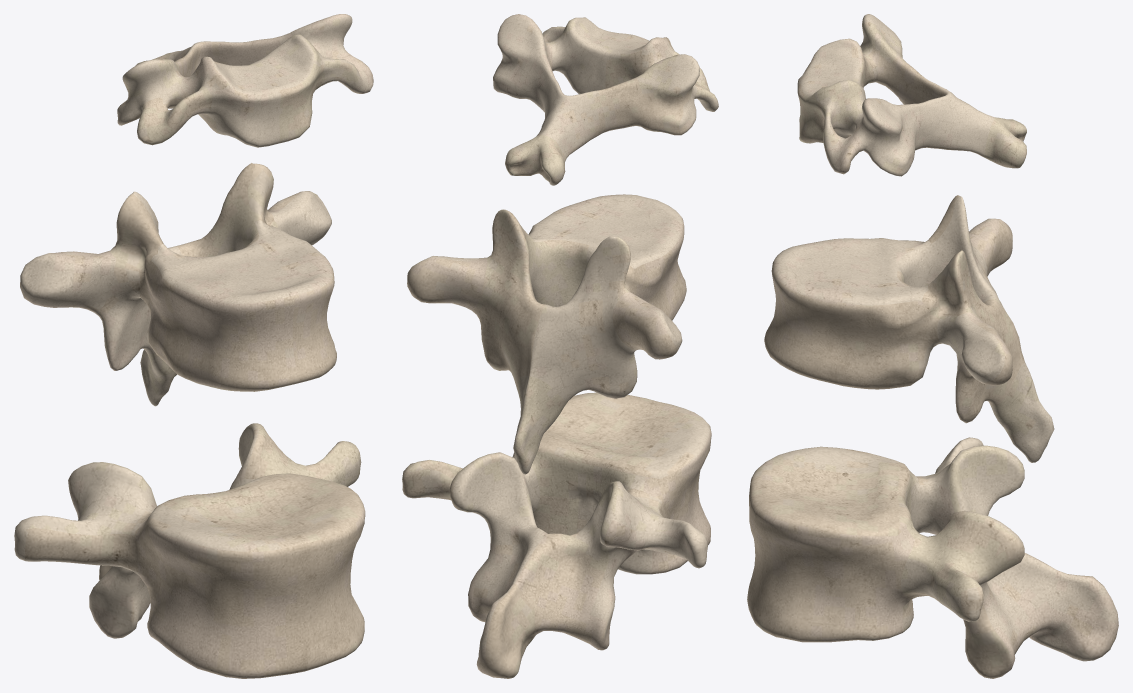
File: vertebrae.glb
The picture shows the model from 3 angles, left to right: view 1: azimuth 30°, elevation 25°; view 2: azimuth 150°, elevation 25°; view 3: azimuth 270°, elevation 25°; orthographic projection. The views are drawn at different scales.
Visible parts, largest first — view 1: Lumbar vertebra (L3), Thoracic vertebra (T7), Cervical vertebra (C4); view 2: Lumbar vertebra (L3), Thoracic vertebra (T7), Cervical vertebra (C4); view 3: Lumbar vertebra (L3), Thoracic vertebra (T7), Cervical vertebra (C4).
Part boxes in pixels (bbox=[...]): Lumbar vertebra (L3): bbox=[14, 423, 365, 678]; Thoracic vertebra (T7): bbox=[20, 163, 336, 406]; Cervical vertebra (C4): bbox=[117, 14, 373, 147]; Lumbar vertebra (L3): bbox=[402, 392, 711, 678]; Thoracic vertebra (T7): bbox=[407, 194, 686, 474]; Cervical vertebra (C4): bbox=[493, 14, 718, 185]; Lumbar vertebra (L3): bbox=[747, 437, 1118, 678]; Thoracic vertebra (T7): bbox=[764, 195, 1054, 462]; Cervical vertebra (C4): bbox=[797, 14, 1026, 176].
Size of the model in its own units: 0.0837 by 0.1495 by 0.0843.
3 materials, 3 textured.
